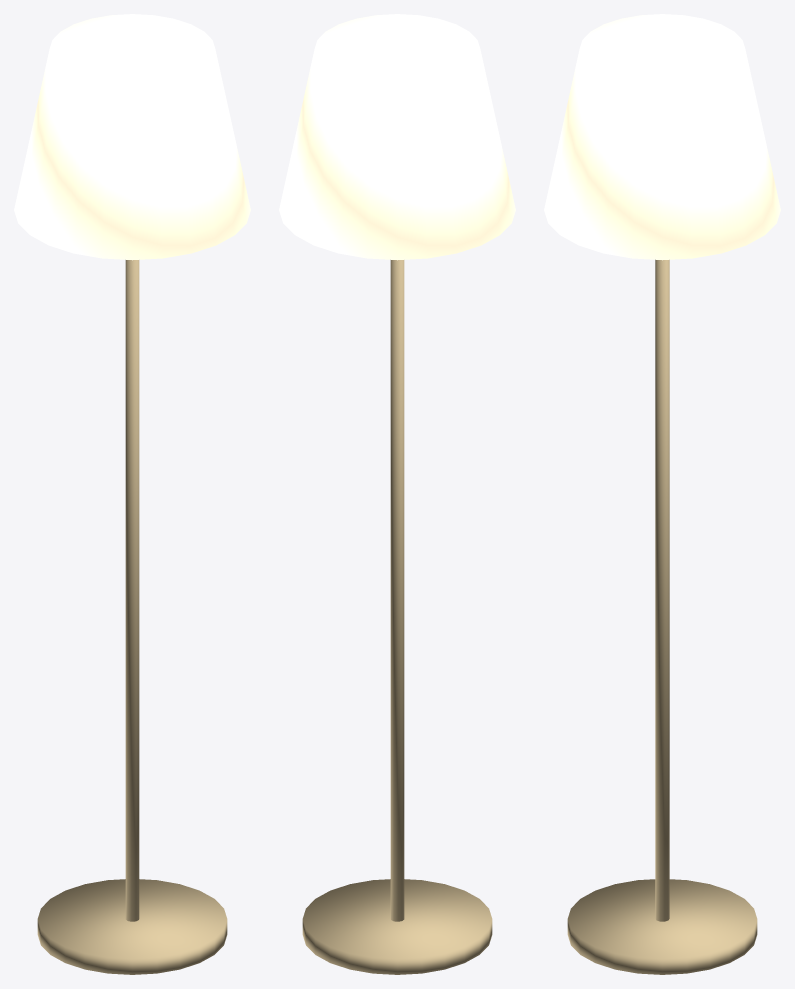
The model's file is floor_lamp.glb.
The picture shows the model from 3 angles, left to right: view 1: azimuth 30°, elevation 25°; view 2: azimuth 150°, elevation 25°; view 3: azimuth 270°, elevation 25°; orthographic projection.
Parts seen in each view (by area): view 1: Cone, Cylinder, Cylinder.001; view 2: Cone, Cylinder, Cylinder.001; view 3: Cone, Cylinder, Cylinder.001.
Part boxes in pixels (box(x1,y1,x2,y2)): Cone: box(14, 14, 250, 260); Cylinder: box(37, 879, 227, 974); Cylinder.001: box(125, 260, 139, 921); Cone: box(279, 14, 515, 260); Cylinder: box(302, 879, 492, 974); Cylinder.001: box(390, 260, 404, 921); Cone: box(544, 14, 780, 260); Cylinder: box(567, 879, 757, 974); Cylinder.001: box(655, 259, 669, 921).
Bounding box in the file's own units: 0.4 × 1.65 × 0.4.
